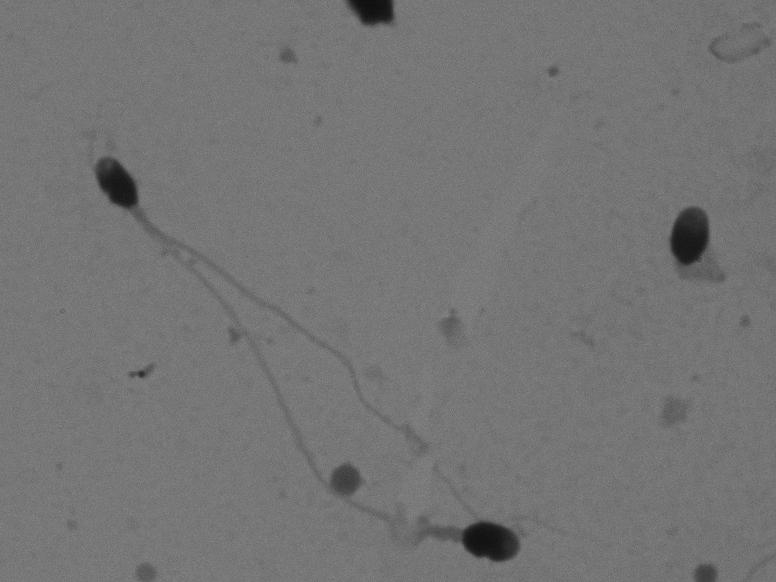Abnormal: (75, 103, 511, 518), (141, 254, 543, 567)
